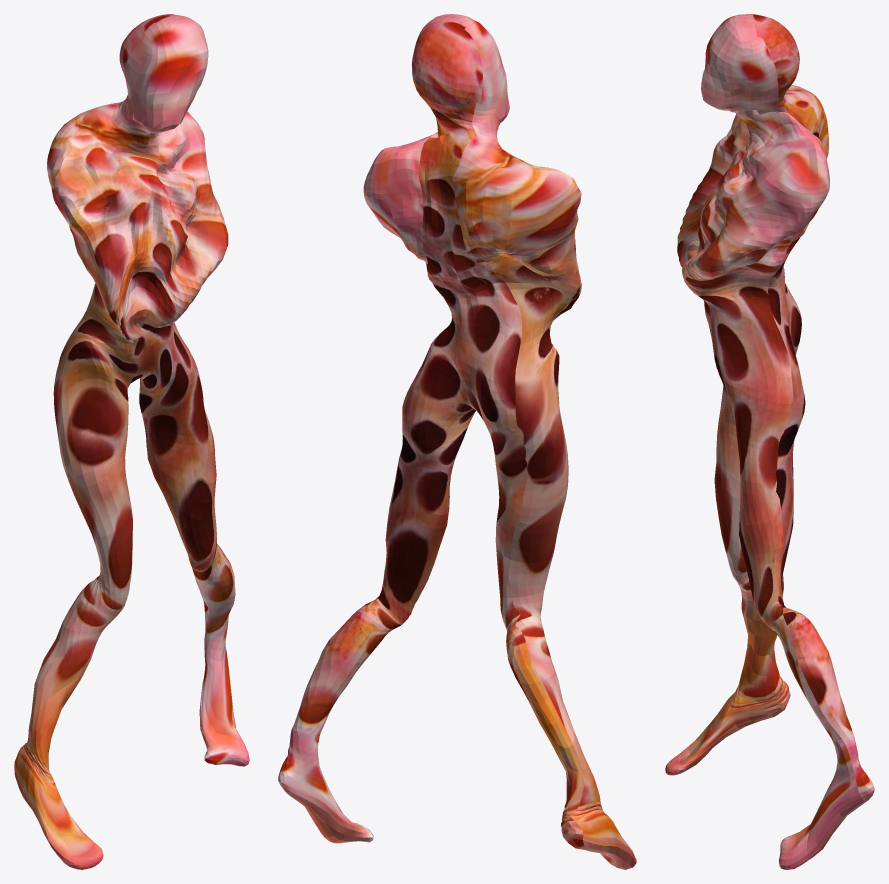
The model's file is monster.obj.
3 views of the same model, side by side, from view 1: azimuth 30°, elevation 25°; view 2: azimuth 150°, elevation 25°; view 3: azimuth 270°, elevation 25° (orthographic). The views are drawn at different scales.
Visible parts, largest first — view 1: Lying_Figure; view 2: Lying_Figure; view 3: Lying_Figure.
Part boxes in pixels (x1,y1,x2,y2): Lying_Figure: [14, 14, 249, 869]; Lying_Figure: [278, 14, 636, 869]; Lying_Figure: [665, 14, 874, 869].
Size of the model in its own units: 1.65 by 4.91 by 1.14.
